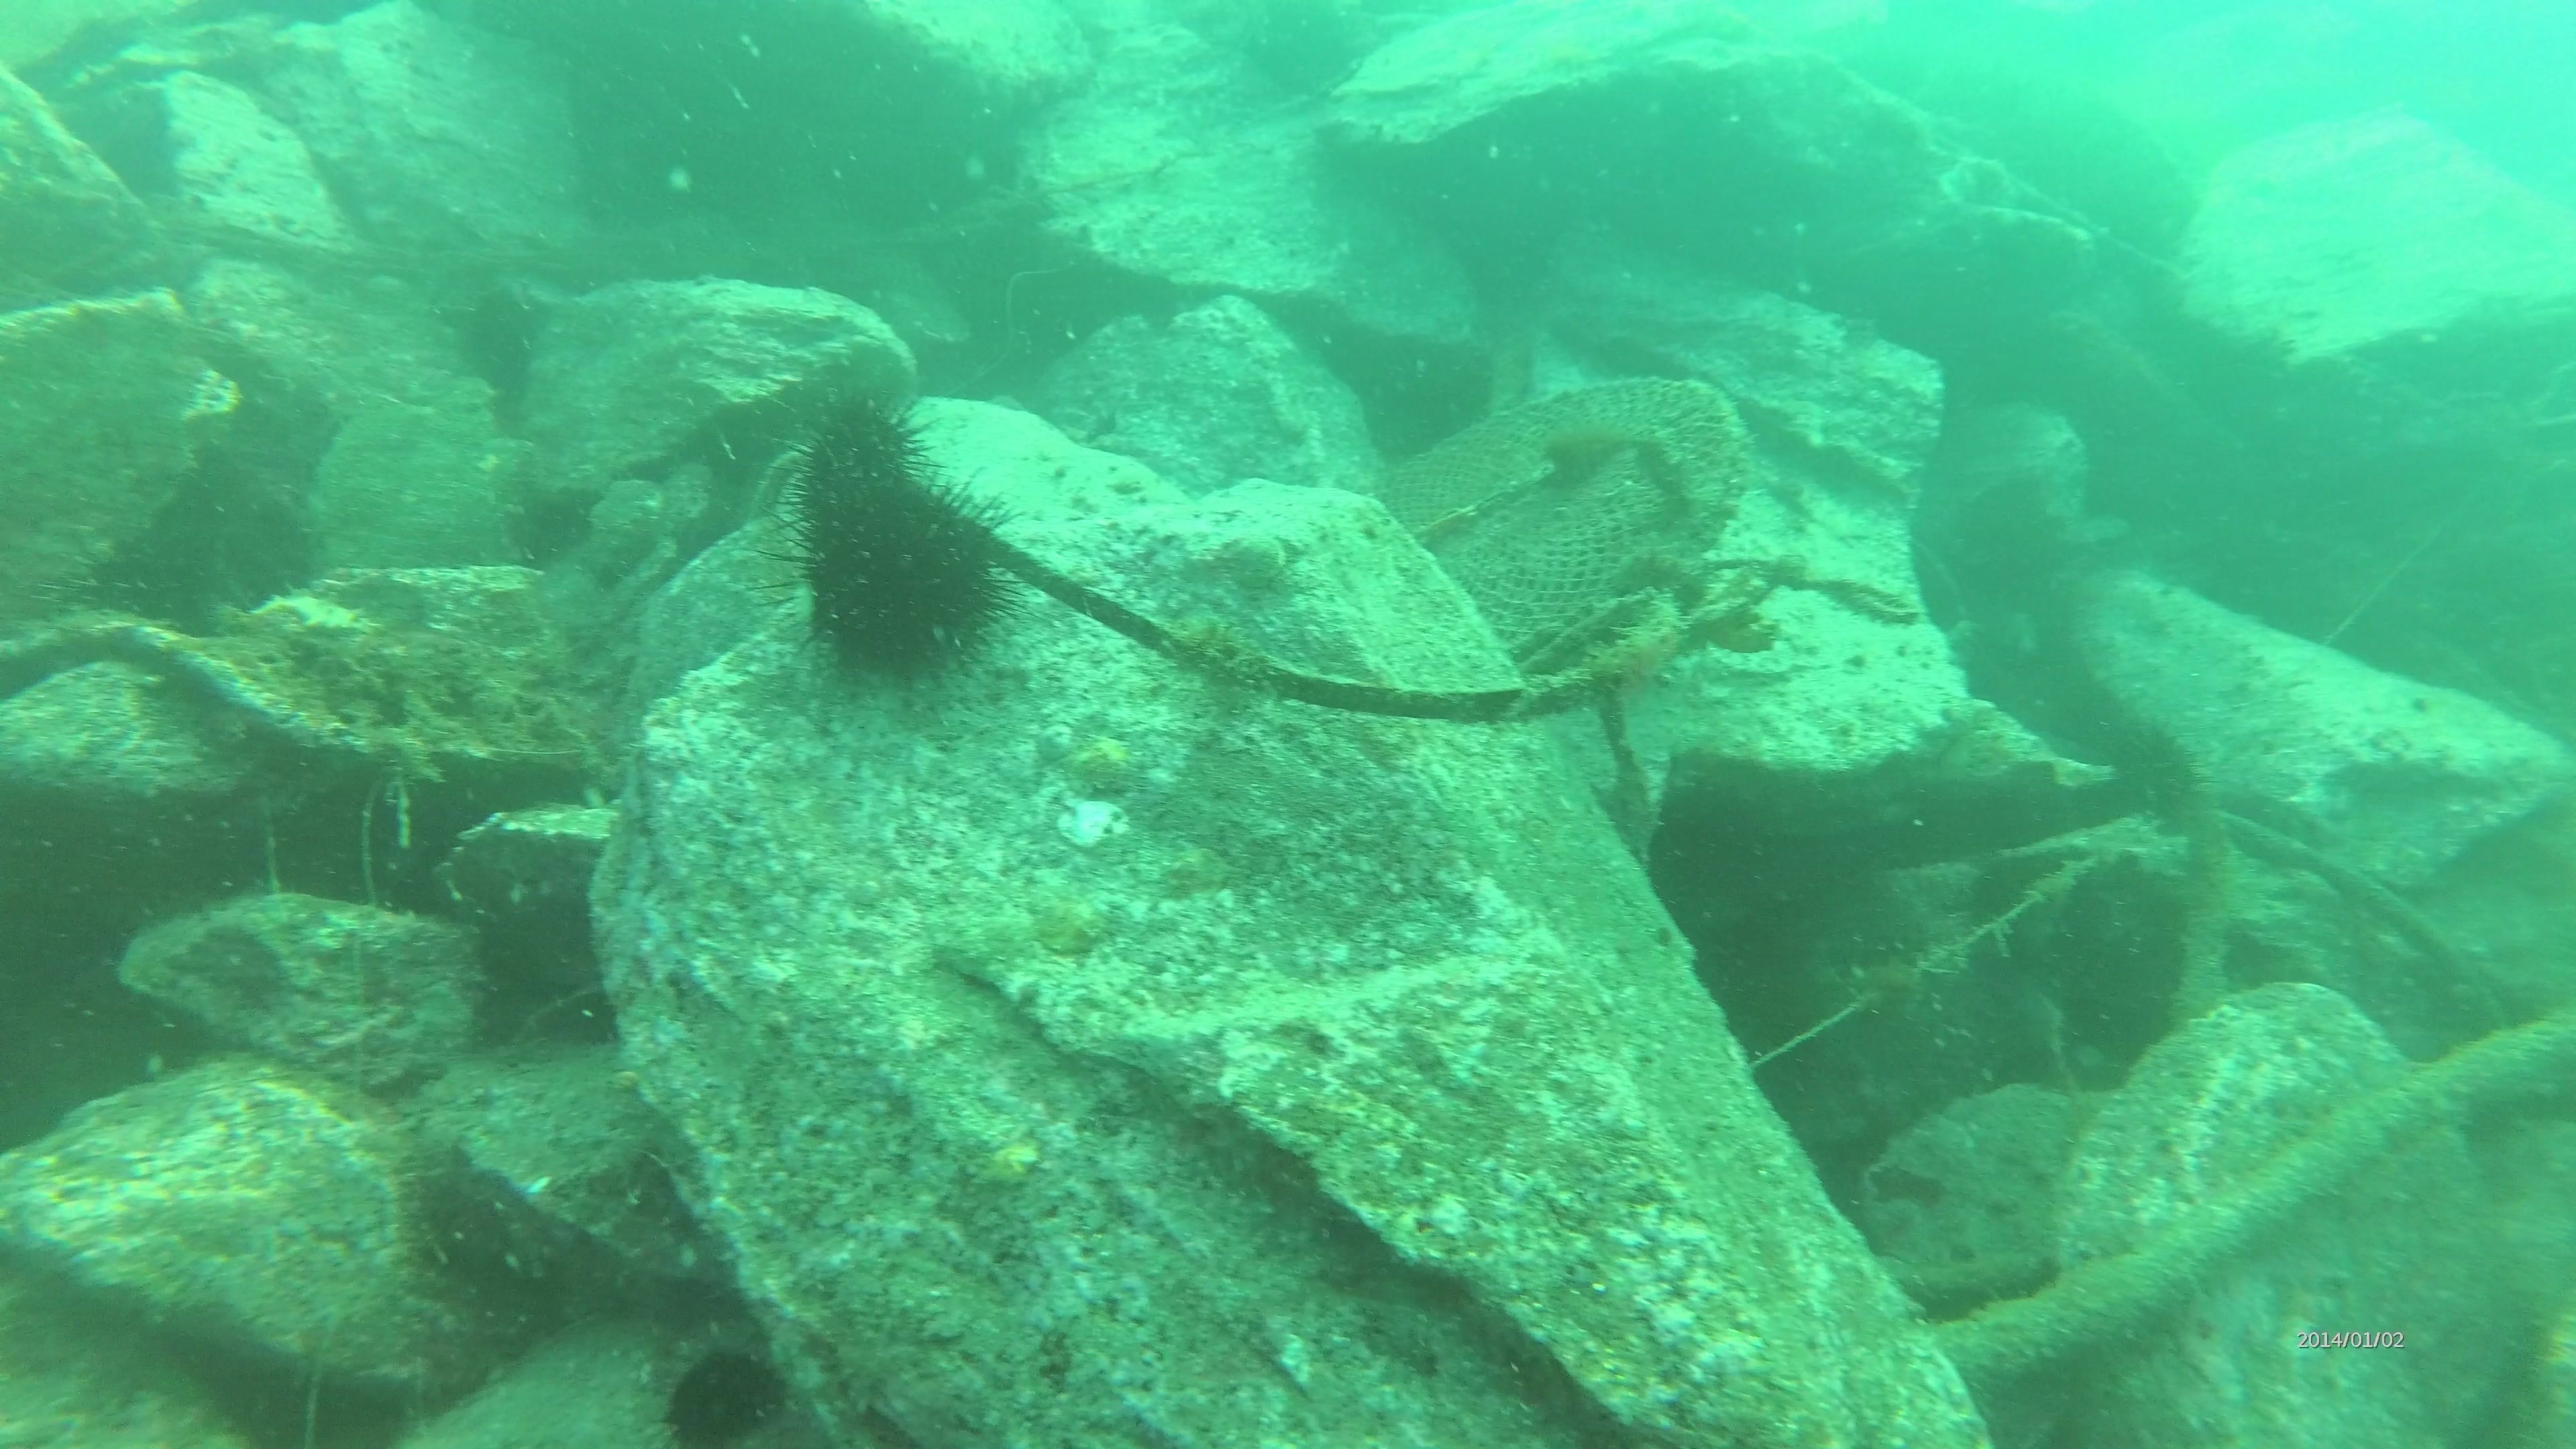echinus: (793, 478, 1024, 688), (784, 386, 936, 543), (651, 1339, 794, 1442), (446, 280, 552, 395)
holothurian: (1580, 586, 1697, 701)
